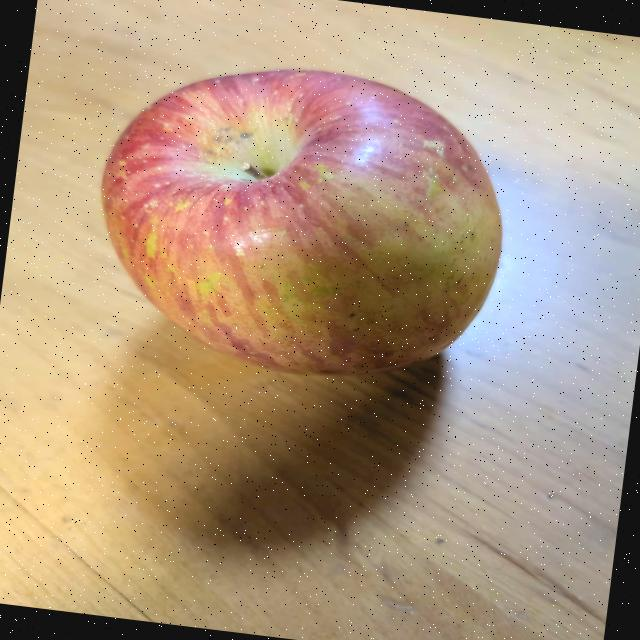apple: (62, 14, 548, 412)
